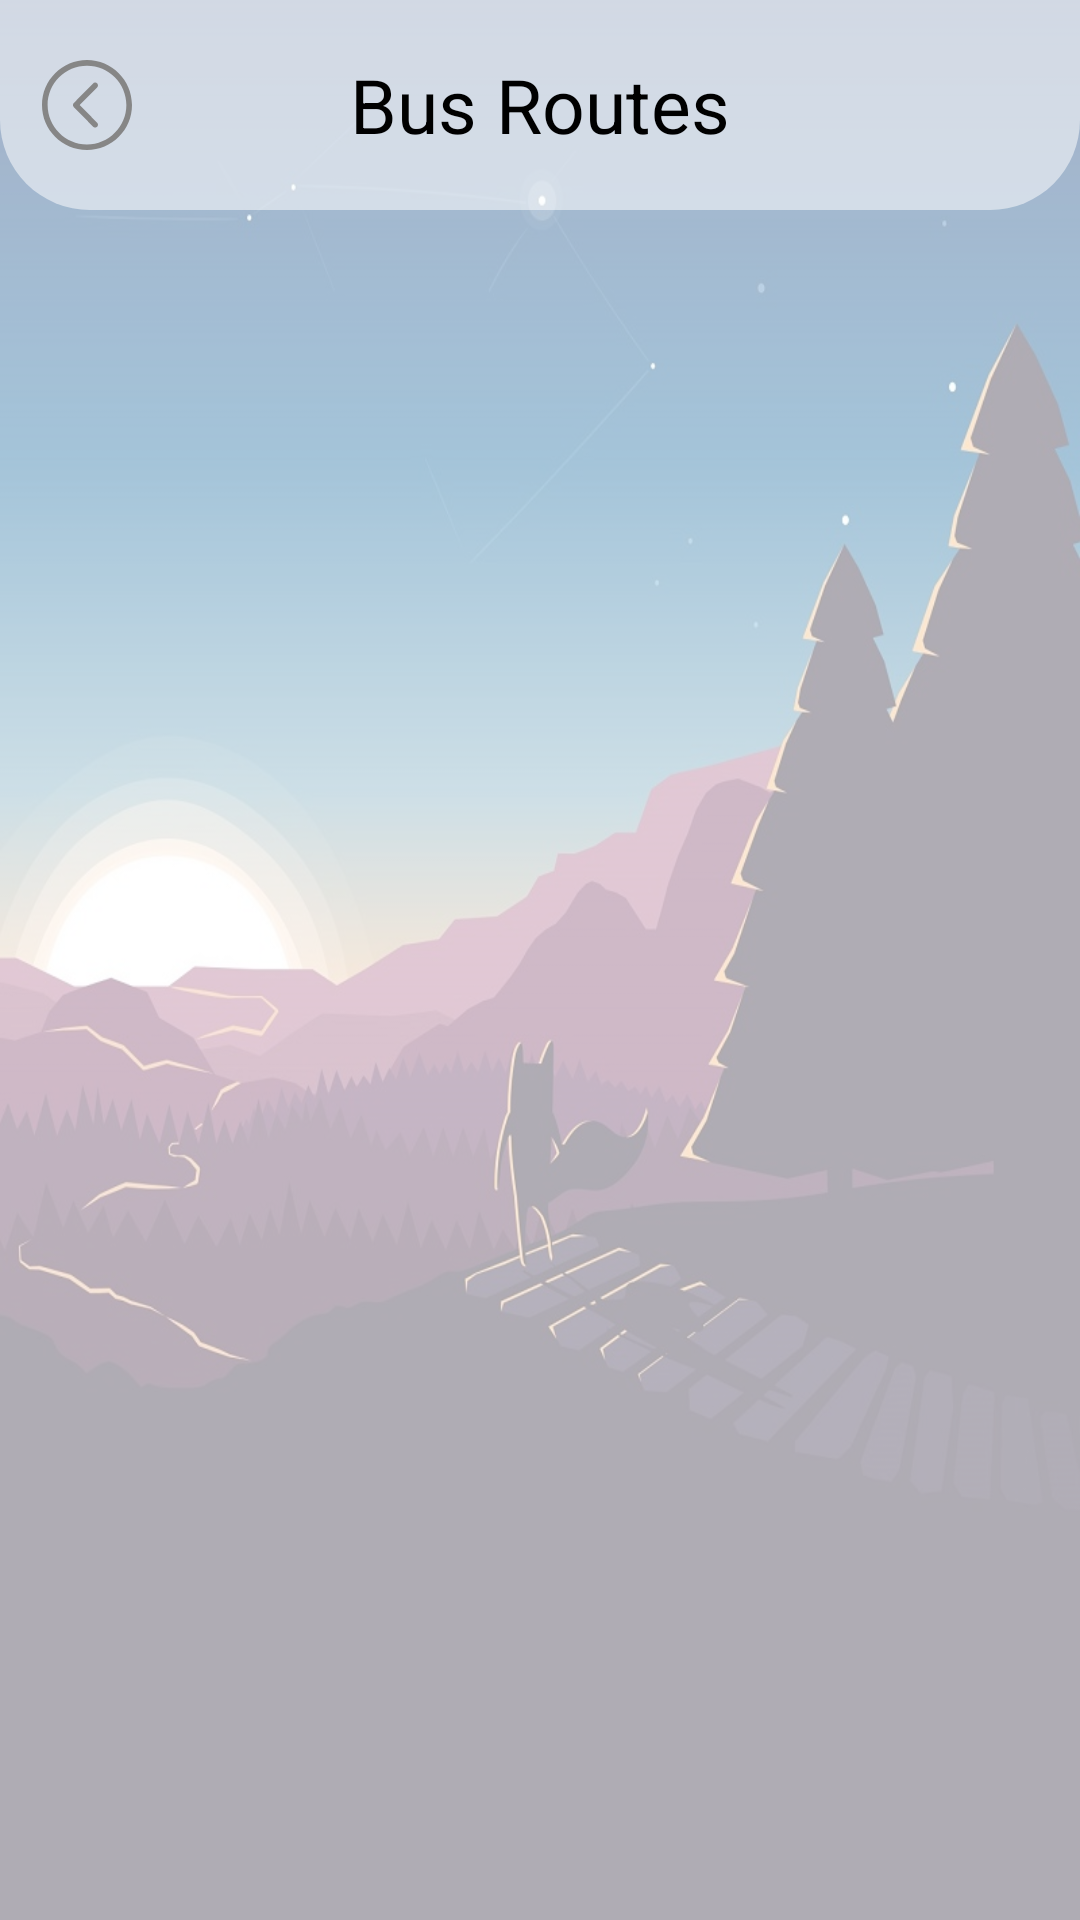

Icon bounding boxes for this 1080 × 1920 phone screenshot, format (left=x1, top=y1, right=x2, bottom=y2):
backdx: (left=42, top=60, right=132, bottom=150)
